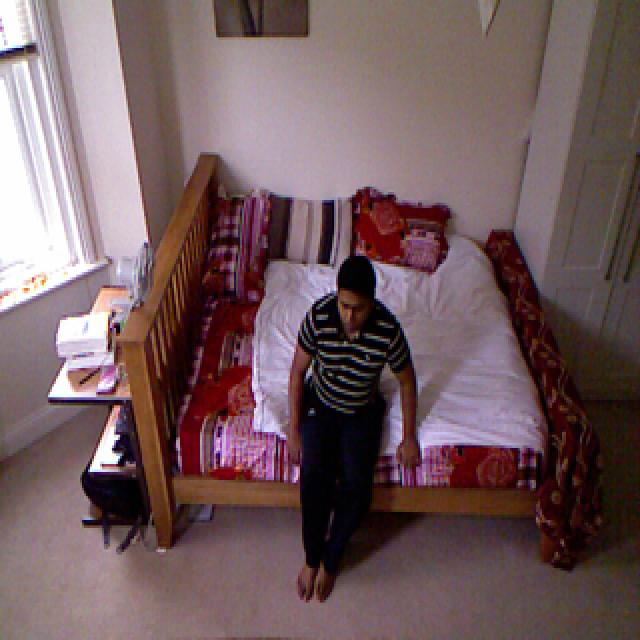sitting: (289, 252, 420, 612)
